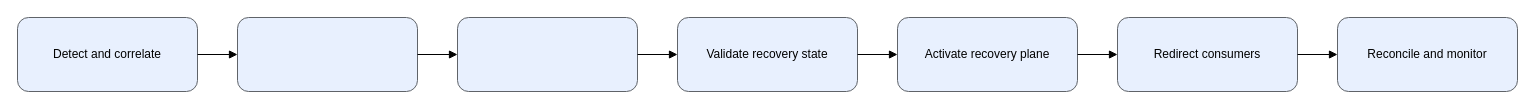
The diagram is 1535 pixels wide and 109 high, and some of its shapes have lost their labels. Here are the shapes that lost their labels. From the top down, the box of each, then its label:
(236, 16, 418, 92): Declare disaster
(456, 16, 638, 92): Fence primary
